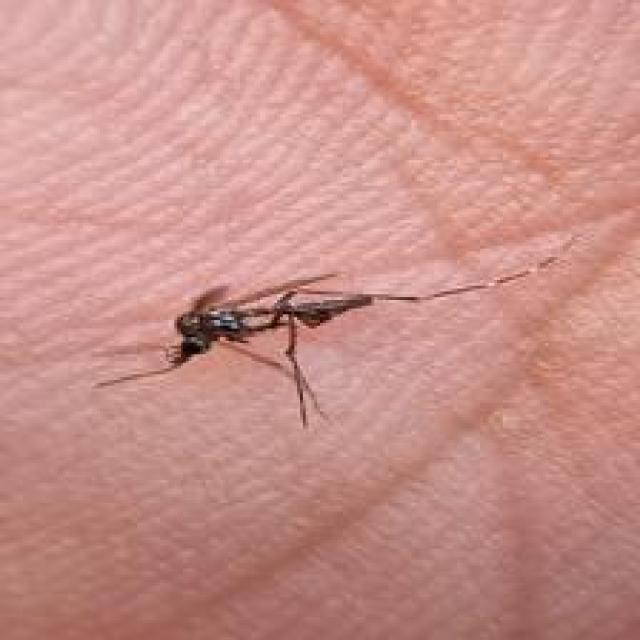Aedes albopictus: (91, 254, 563, 429)
